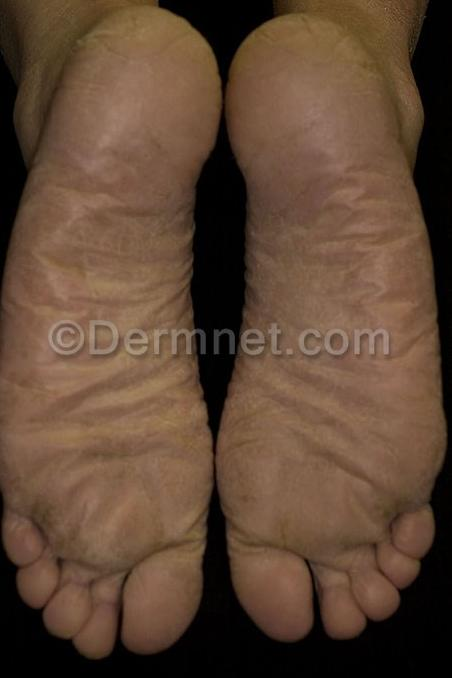liquenificacion 2: (0, 100, 201, 566), (219, 145, 439, 508)
xerosis 1: (59, 196, 201, 449), (225, 196, 343, 437), (372, 0, 435, 56)
